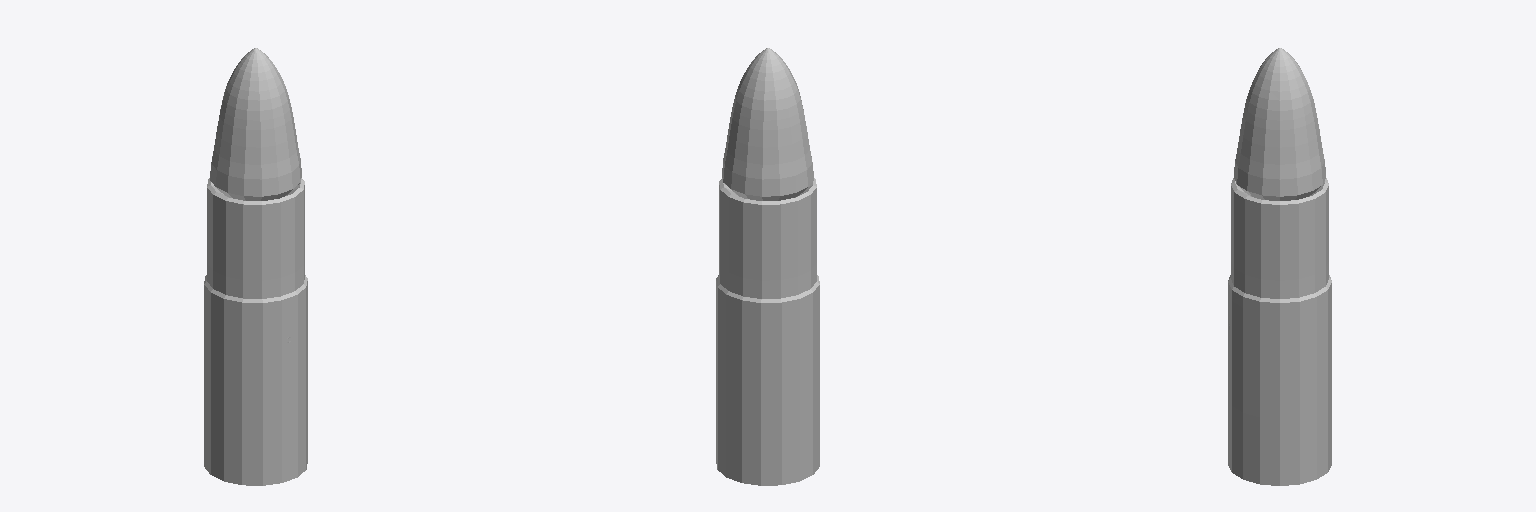
Rendered from blt3.obj.
3 renders of one model, left to right at view 1: azimuth 30°, elevation 25°; view 2: azimuth 150°, elevation 25°; view 3: azimuth 270°, elevation 25°, orthographic.
Parts seen in each view (by area): view 1: Cube.003; view 2: Cube.003; view 3: Cube.003.
Part boxes in pixels (x1,y1,x2,y2): Cube.003: (204, 48, 307, 485); Cube.003: (716, 48, 819, 485); Cube.003: (1228, 48, 1331, 485).
Size of the model in its own units: 1.5 by 6.59 by 1.5.